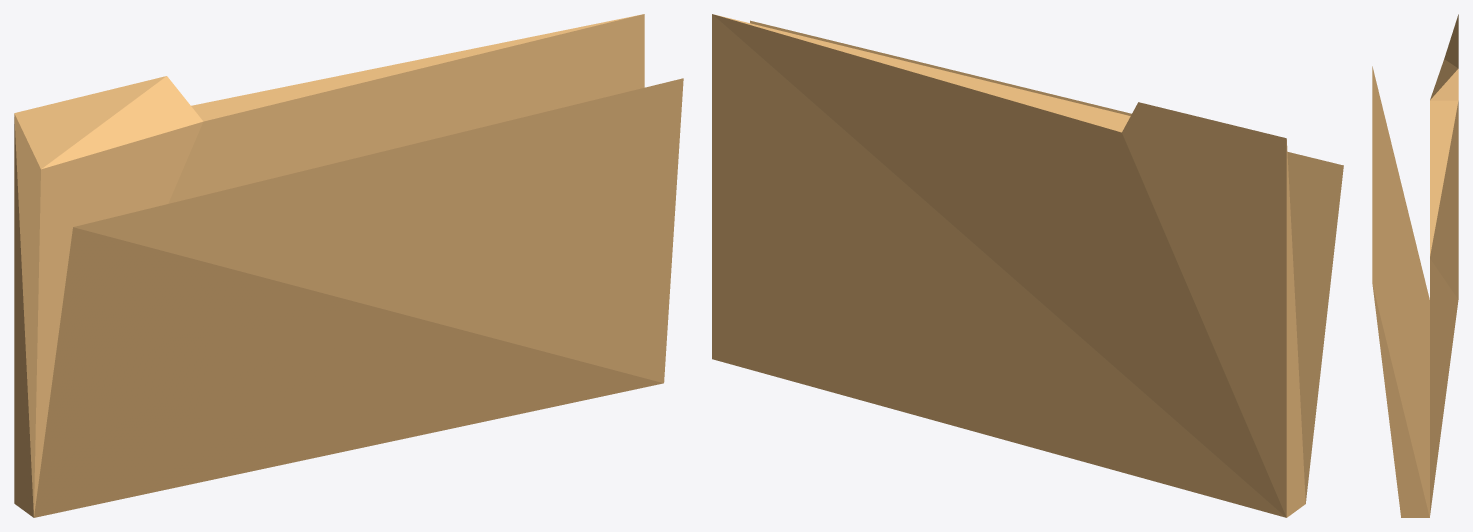
3 views of the same model, side by side, from view 1: azimuth 30°, elevation 25°; view 2: azimuth 150°, elevation 25°; view 3: azimuth 270°, elevation 25° (orthographic). The views are drawn at different scales.
Parts seen in each view (by area): view 1: mesh_381717428, mesh_932501492; view 2: mesh_932501492, mesh_381717428; view 3: mesh_381717428, mesh_932501492.
Boxes of the visible parts, left/top/right/bottom form: mesh_381717428: left=34, top=78, right=683, bottom=517; mesh_932501492: left=14, top=14, right=644, bottom=517; mesh_932501492: left=712, top=14, right=1305, bottom=517; mesh_381717428: left=750, top=20, right=1343, bottom=503; mesh_381717428: left=1372, top=66, right=1429, bottom=517; mesh_932501492: left=1430, top=14, right=1458, bottom=514.
Bounding box in the file's own units: 18 × 11 × 3.
